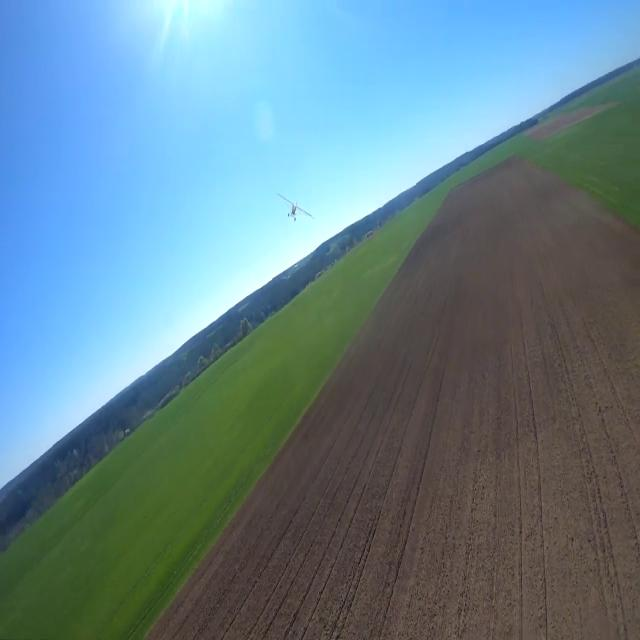iha: (278, 191, 317, 219)
